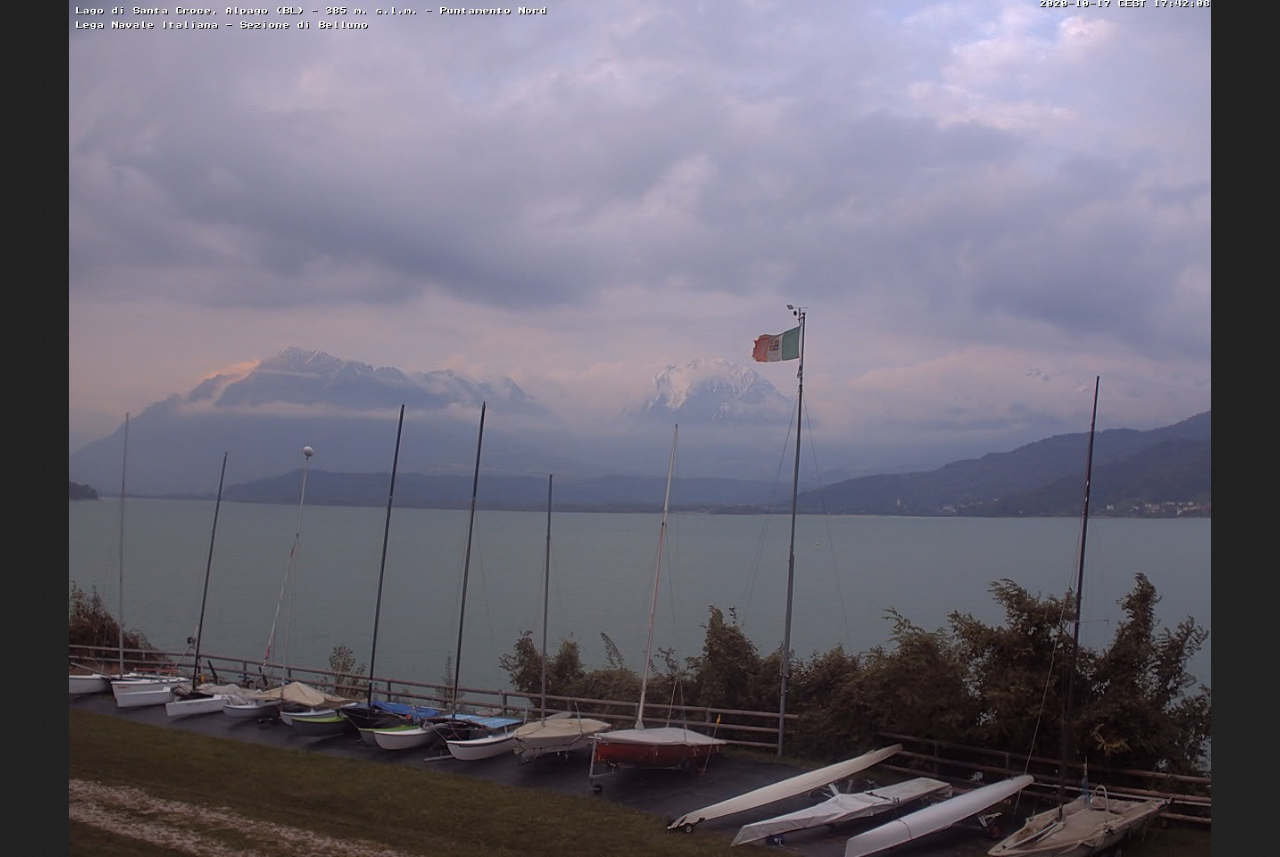yes: (744, 315, 809, 365)
